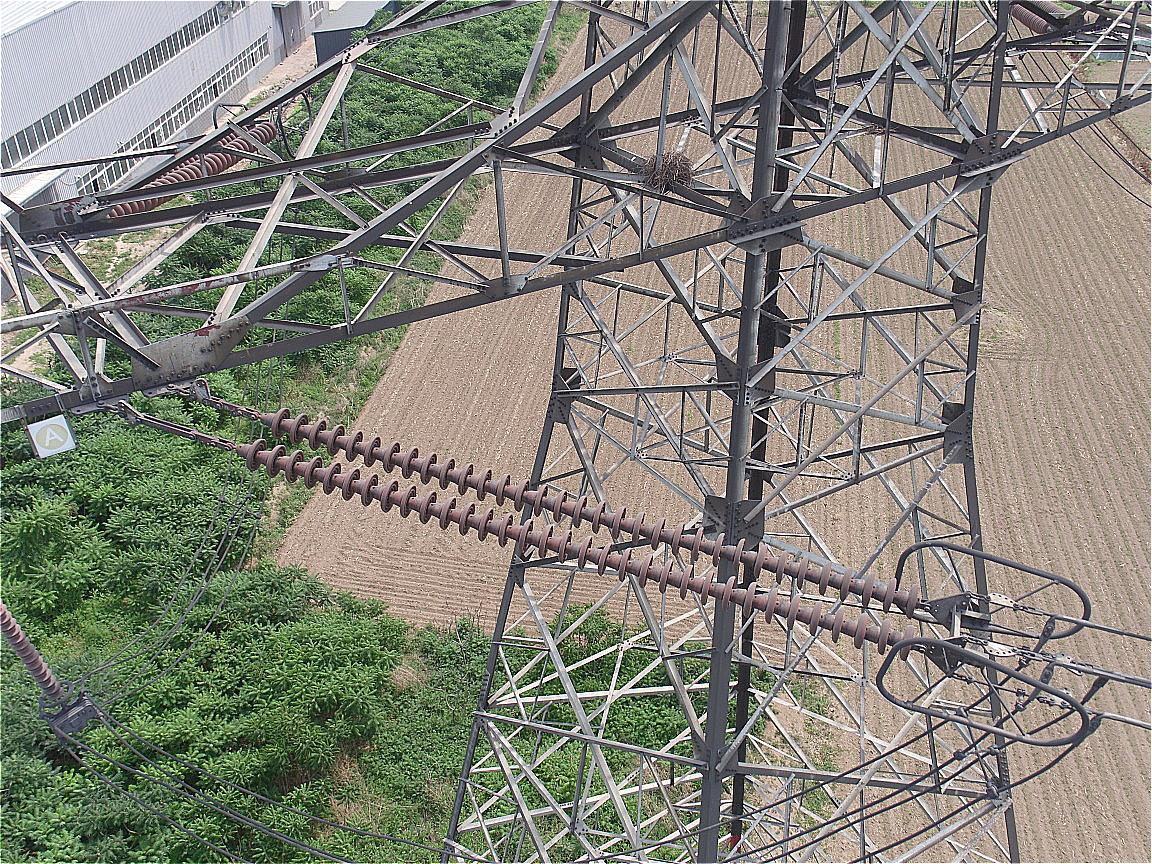insultor1: (245, 406, 919, 661)
